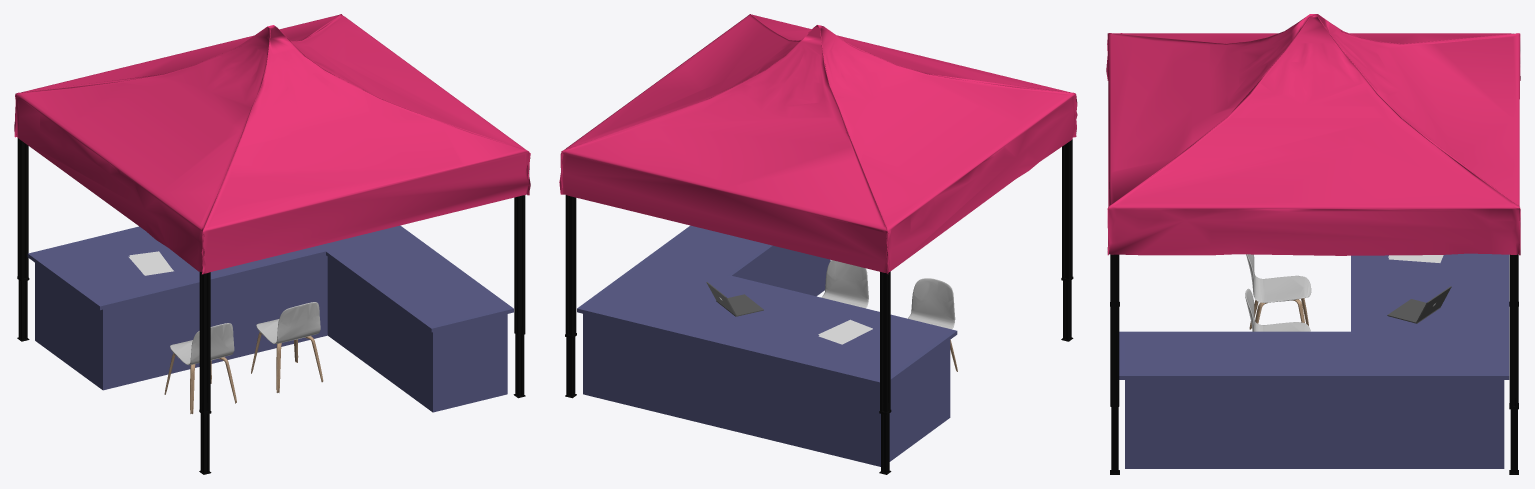
The model's file is Stall.glb.
3 renders of one model, left to right at view 1: azimuth 30°, elevation 25°; view 2: azimuth 150°, elevation 25°; view 3: azimuth 270°, elevation 25°, orthographic. The views are drawn at different scales.
Parts seen in each view (by area): view 1: Tent, table, Decor; view 2: Tent, table, Decor; view 3: Tent, table, Decor.
Boxes of the visible parts, x1=… form: Tent: x1=14, y1=14, x2=530, y2=474; table: x1=27, y1=225, x2=513, y2=412; Decor: x1=128, y1=251, x2=323, y2=413; Tent: x1=559, y1=14, x2=1077, y2=474; table: x1=577, y1=225, x2=957, y2=466; Decor: x1=706, y1=260, x2=957, y2=371; Tent: x1=1106, y1=14, x2=1520, y2=474; table: x1=1119, y1=253, x2=1509, y2=468; Decor: x1=1245, y1=254, x2=1451, y2=331.
Size of the model in its own units: 0.5682 by 0.5586 by 0.5619.
Materials: 8 (1 with a texture image).
